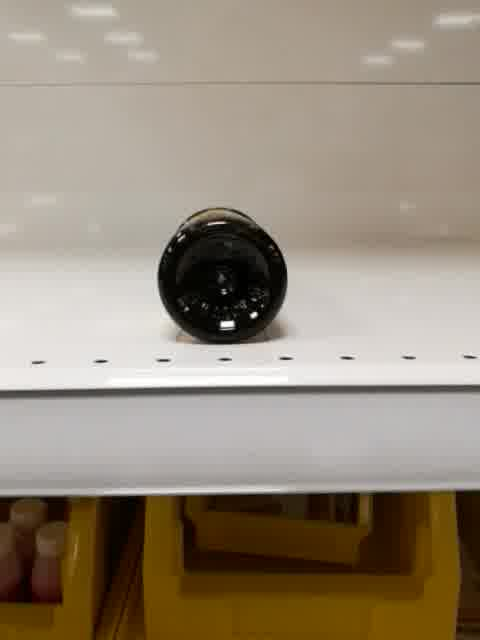cookingoil: (151, 201, 293, 346)
